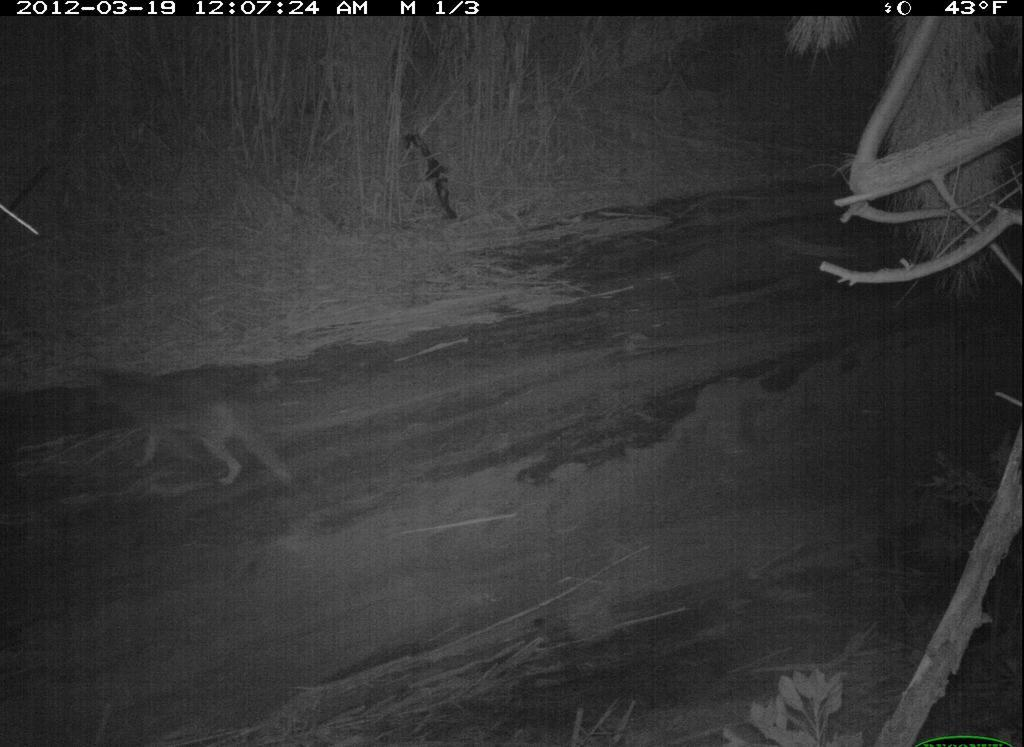coyote: (80, 356, 299, 498)
